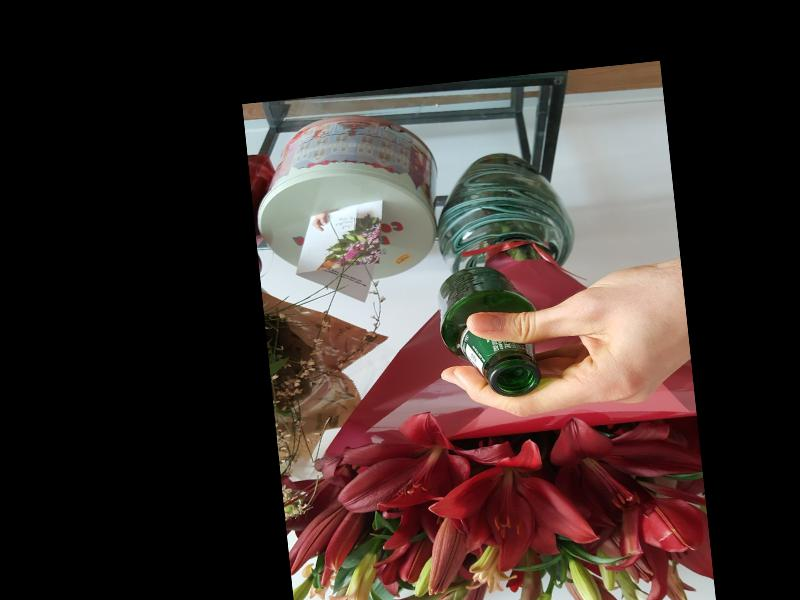Beer: (434, 261, 545, 403)
